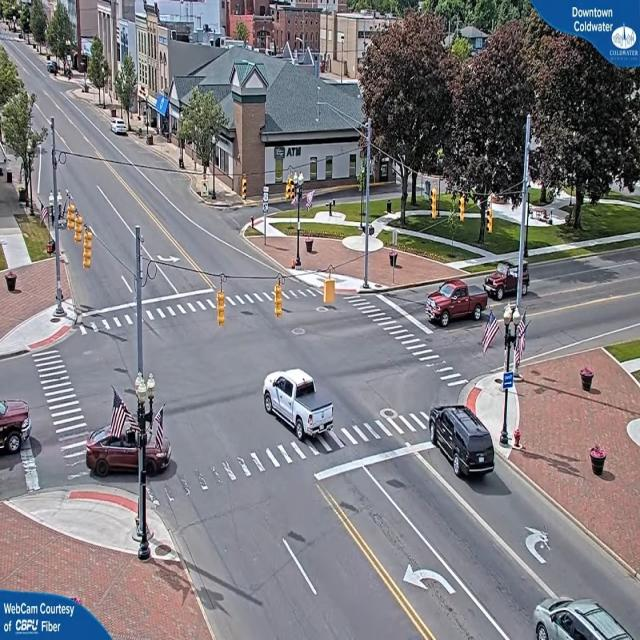car: (262, 368, 334, 441), (431, 405, 498, 480), (532, 599, 639, 640), (88, 427, 170, 477), (426, 278, 491, 328), (486, 256, 528, 300), (112, 122, 130, 138)
